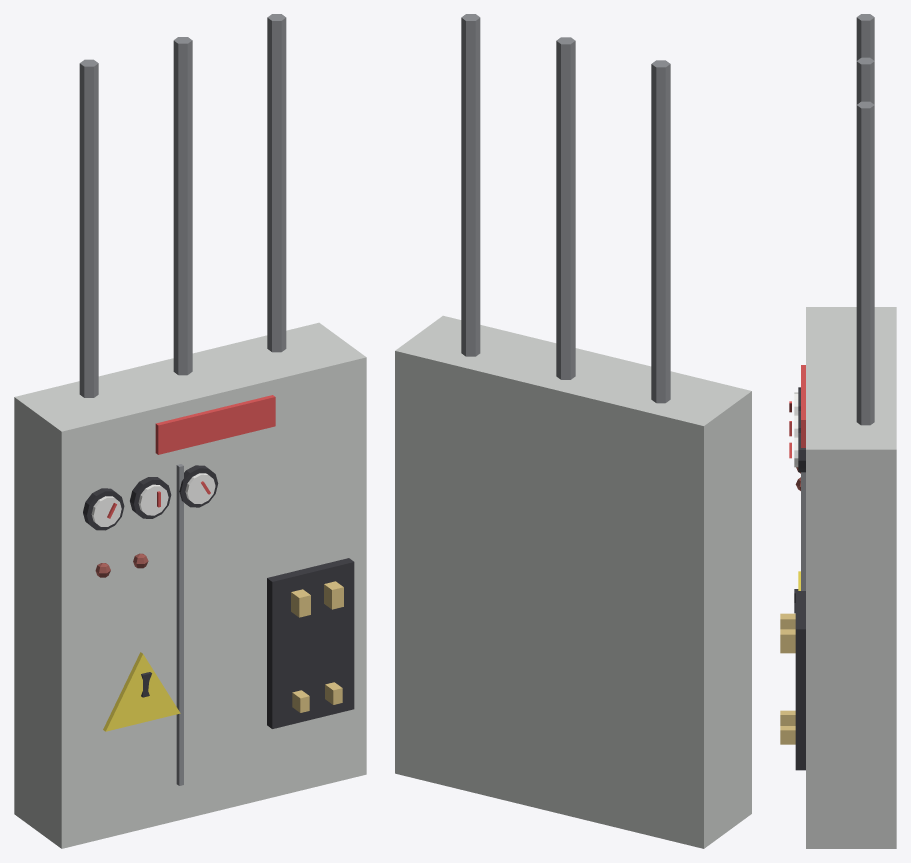
The model's file is HJ_CuadroElectrico.fbx.
3 views of the same model, side by side, from view 1: azimuth 30°, elevation 25°; view 2: azimuth 150°, elevation 25°; view 3: azimuth 270°, elevation 25° (orthographic). The views are drawn at different scales.
Parts seen in each view (by area): view 1: HJ_CuadroElectrico; view 2: HJ_CuadroElectrico; view 3: HJ_CuadroElectrico.
Part boxes in pixels (x1=…): HJ_CuadroElectrico: x1=14, y1=14, x2=366, y2=848; HJ_CuadroElectrico: x1=395, y1=14, x2=751, y2=848; HJ_CuadroElectrico: x1=780, y1=14, x2=896, y2=848.
Bounding box in the file's own units: 1.3 × 3.05 × 0.45.
